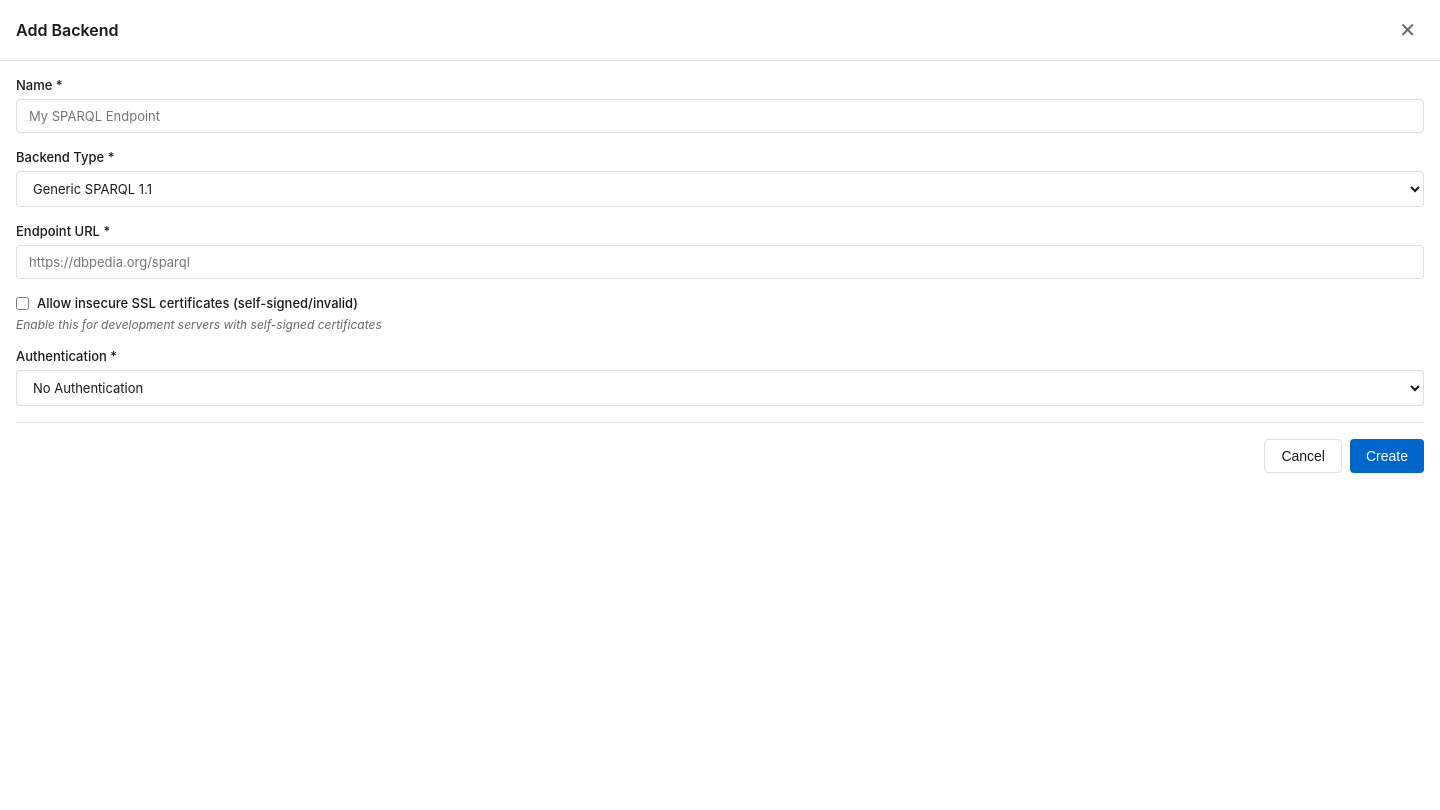
it: ConnectionForm - authentication › requires at least one custom header
Type "My EP" into the field with id "name". click: (720, 116)
box: [16, 99, 1424, 133]
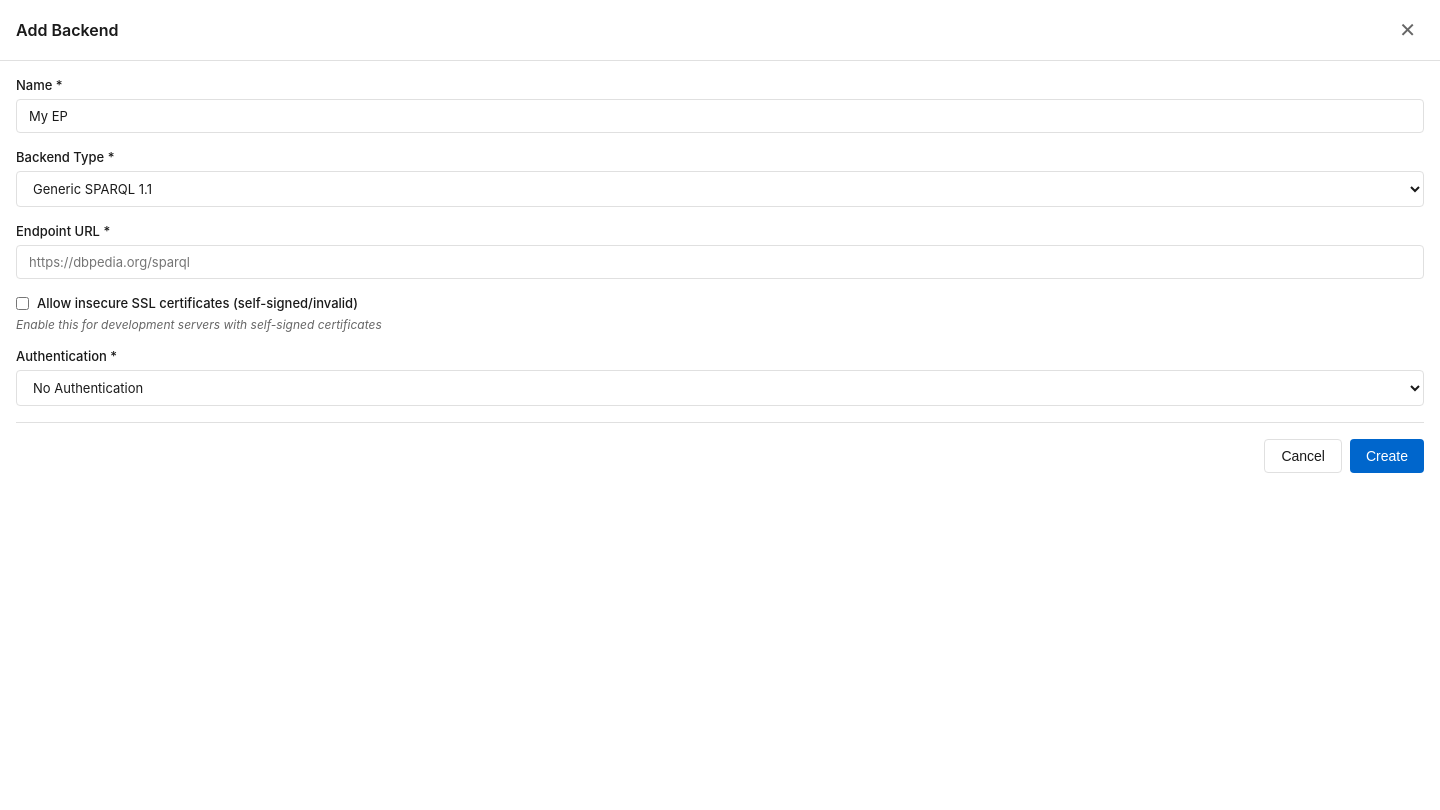
Type "https://ex.org/sparql" into the field with id "endpoint". click: (720, 262)
box: [16, 245, 1424, 279]
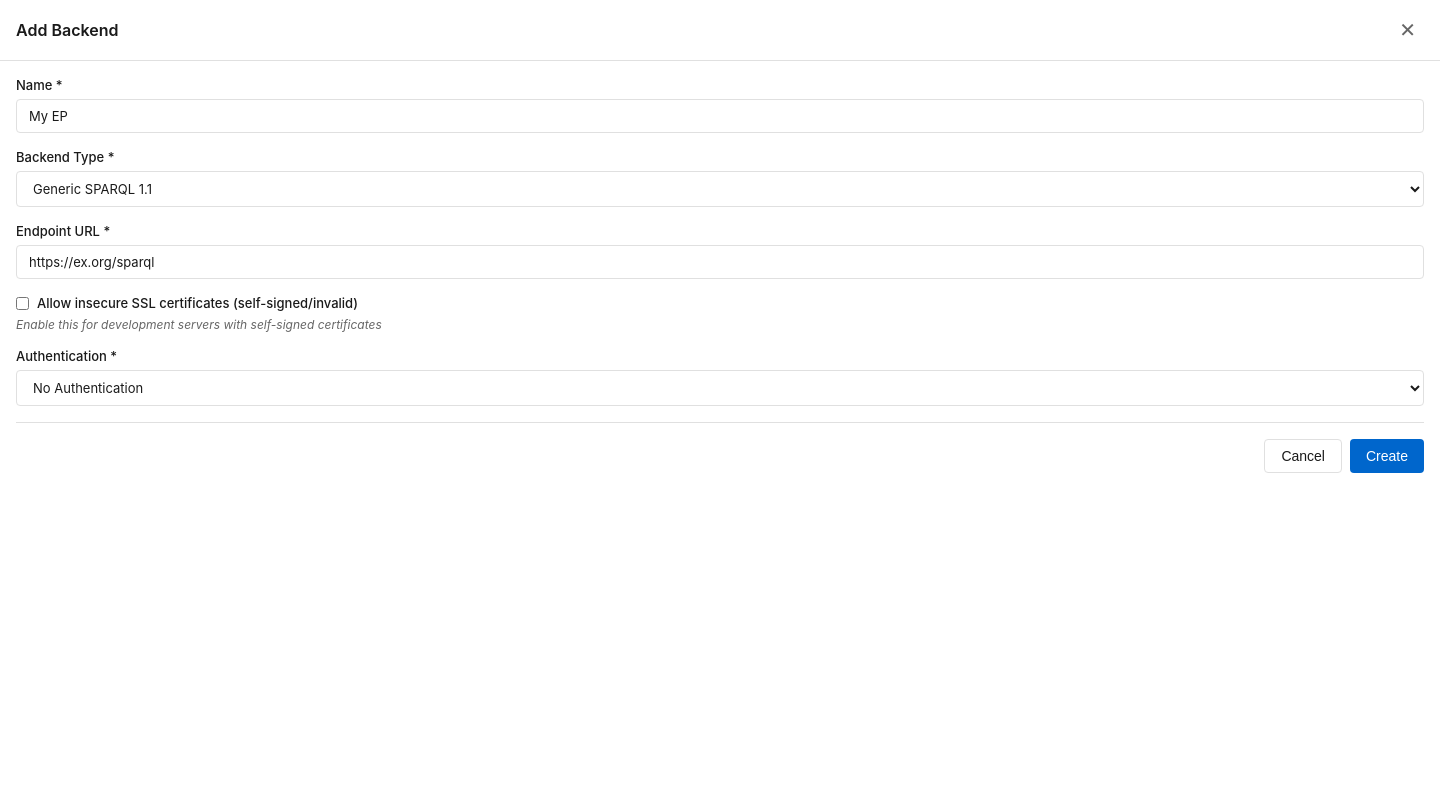
Select "Custom Headers" in the dropdown with id "authType". click: (720, 388)
box: [16, 370, 1424, 406]
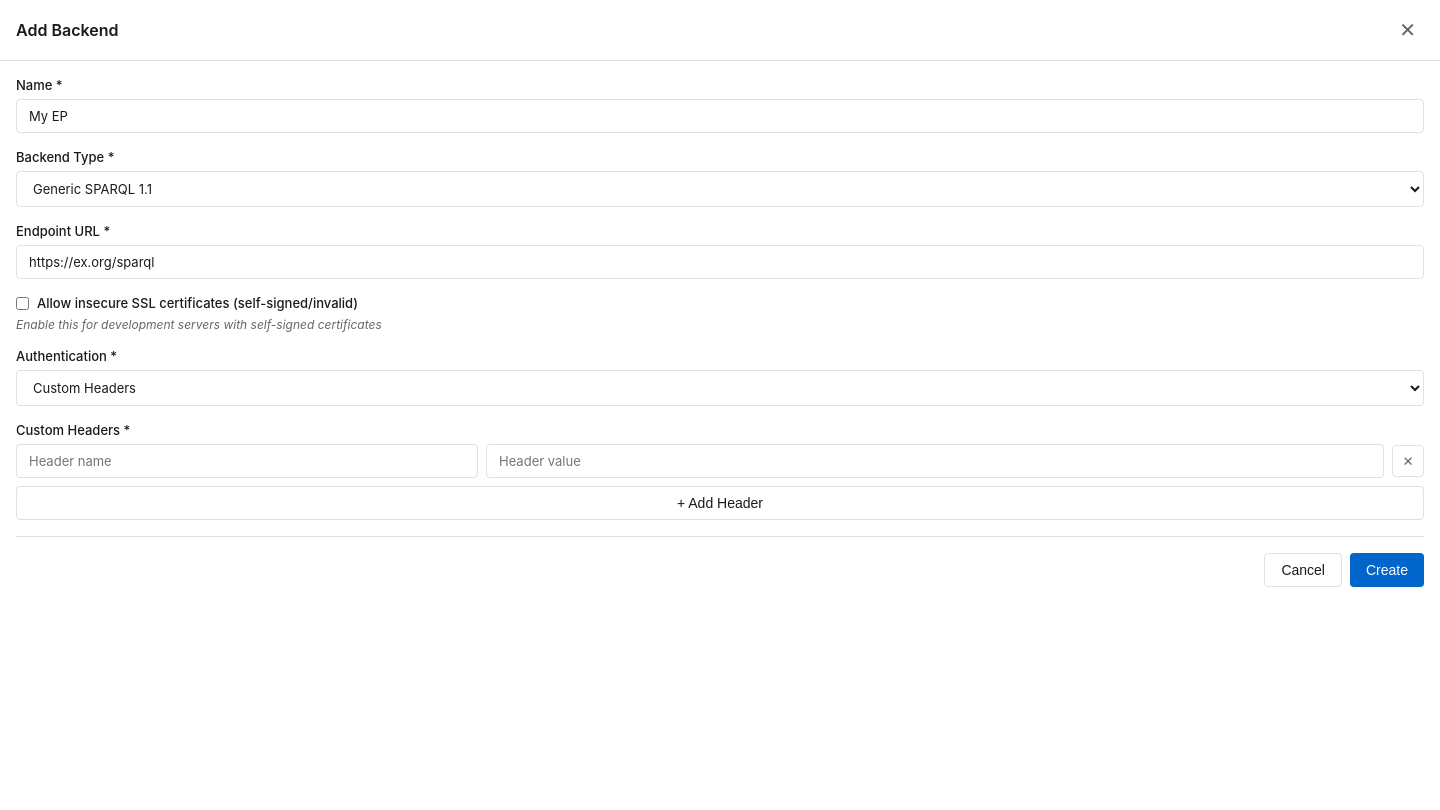
Click the 2nd button "✕". click: (1408, 461)
box: [1392, 445, 1424, 477]
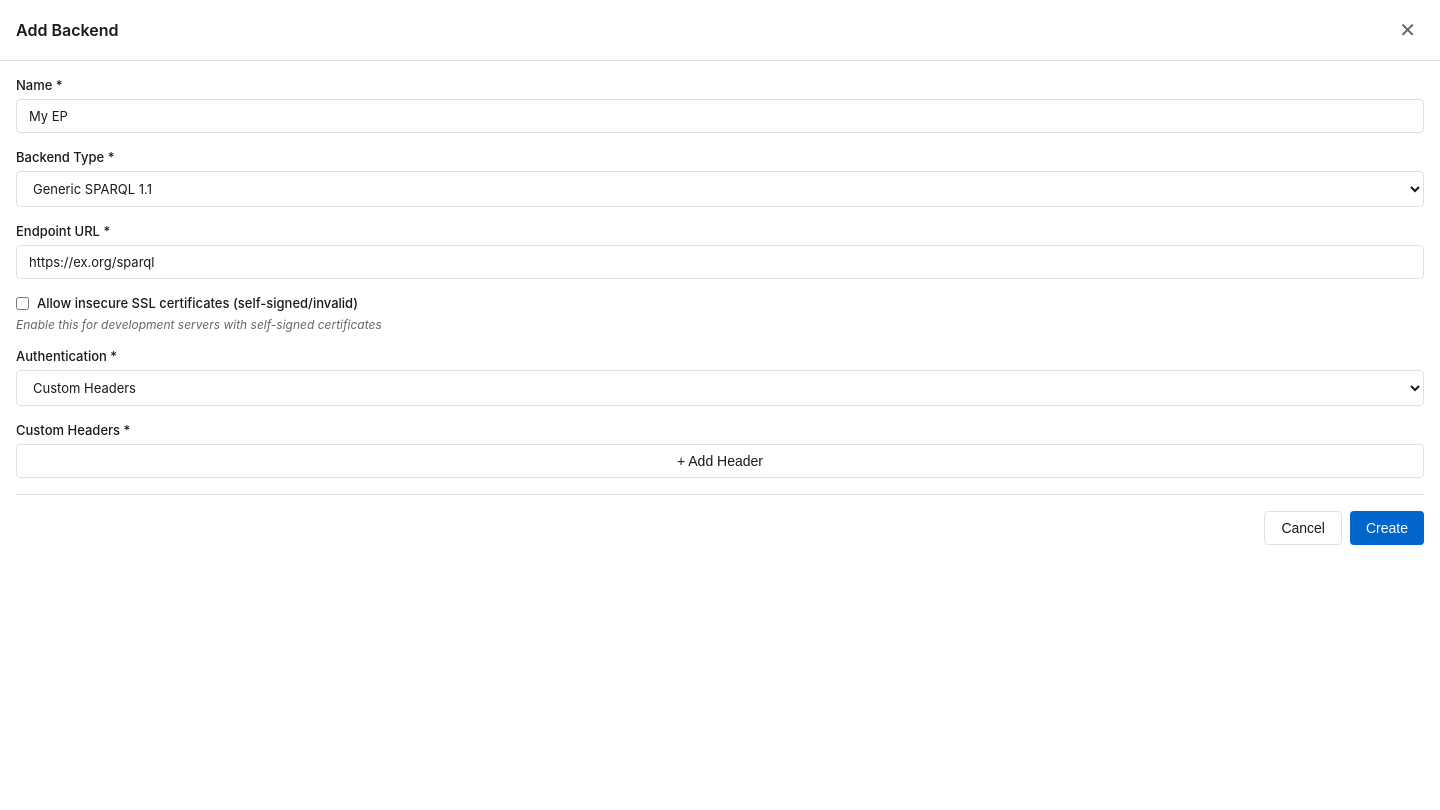
Submit the form
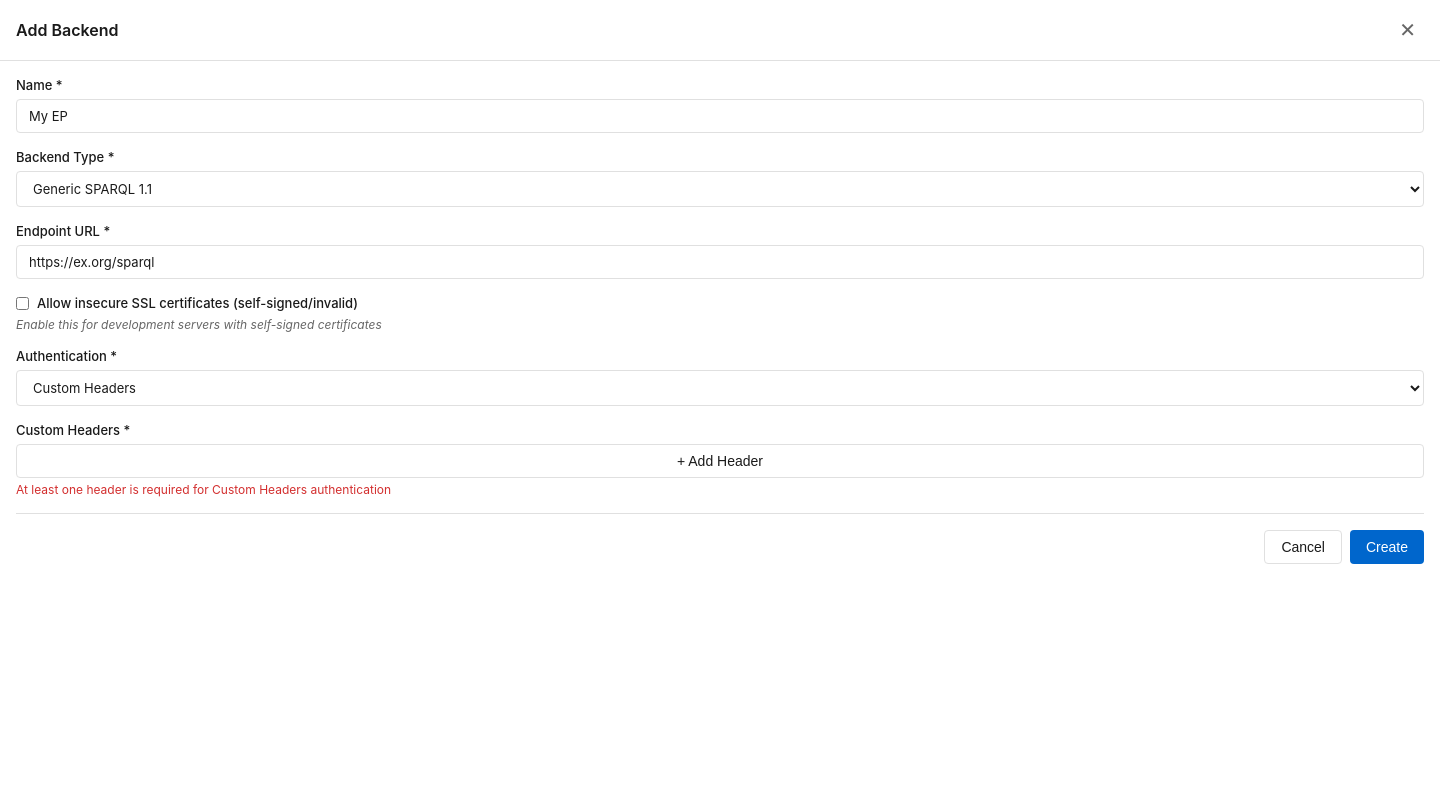
Now the text "At least one header is required" is shown, box [16, 482, 391, 497]
